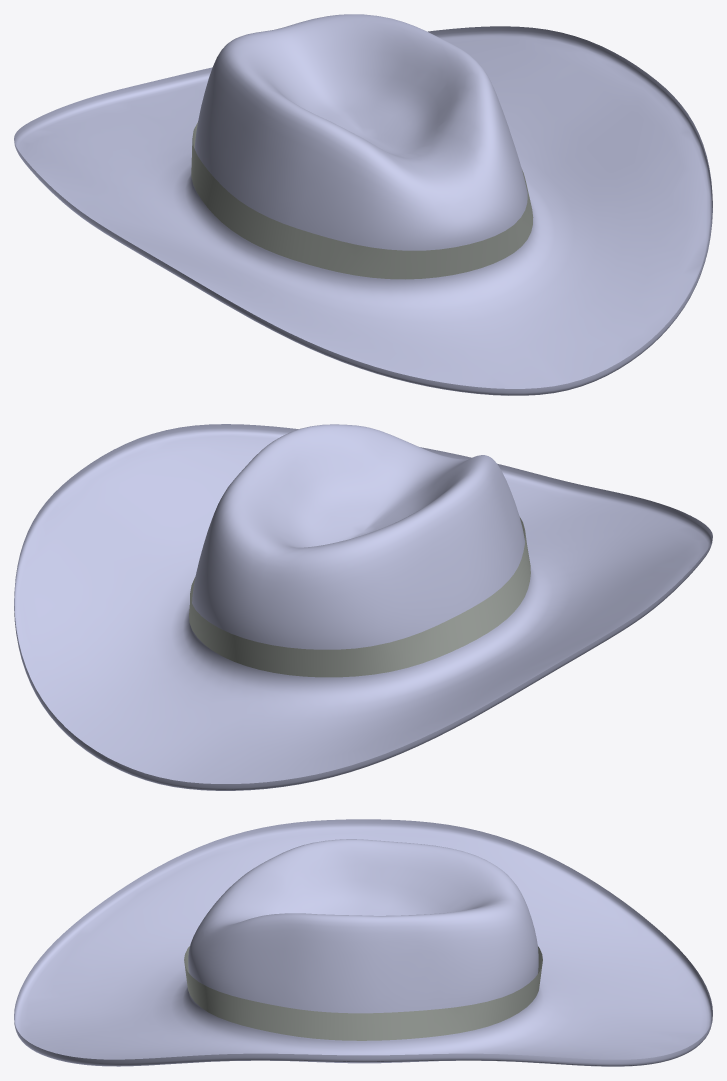
The model's file is hat_joine11d.glb.
3 renders of one model, top to bottom at view 1: azimuth 30°, elevation 25°; view 2: azimuth 150°, elevation 25°; view 3: azimuth 270°, elevation 25°, orthographic. The views are drawn at different scales.
Visible parts, largest first — view 1: Sphere, Sphere.005; view 2: Sphere, Sphere.005; view 3: Sphere, Sphere.005.
Part boxes in pixels (x1,y1,x2,y2): Sphere: (14,14,712,395); Sphere.005: (191,122,533,279); Sphere: (14,424,712,790); Sphere.005: (189,517,530,677); Sphere: (14,819,712,1066); Sphere.005: (184,946,542,1040).
Bounding box in the file's own units: 3.09 × 0.8924 × 3.86.
